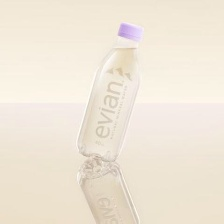bottle: (72, 17, 146, 162), (67, 156, 152, 224)
